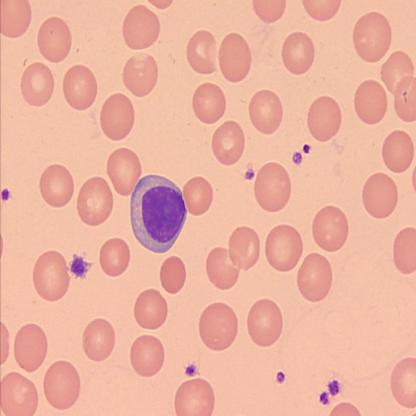Atypical lymphocyte: (132, 172, 187, 254)
